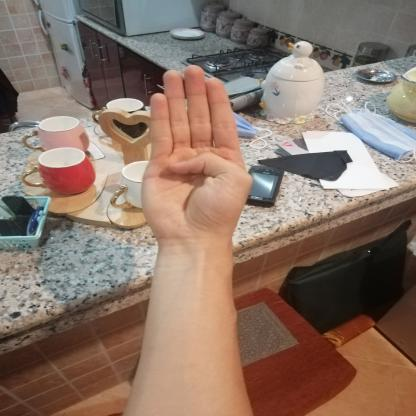KAAF: (121, 54, 264, 250)
